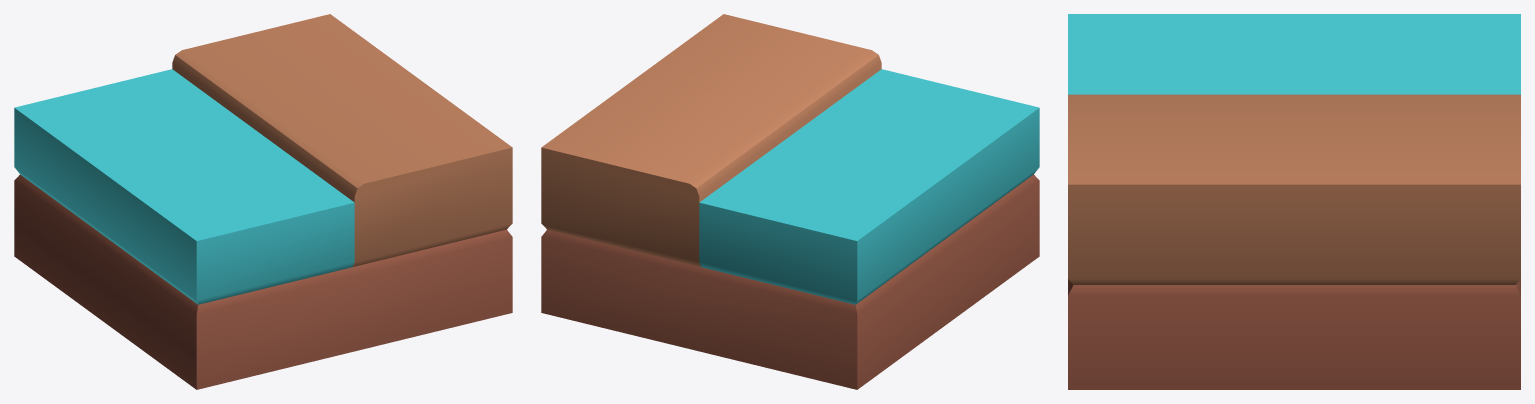
File: square_rock_waterStraight.glb
The picture shows the model from 3 angles, left to right: view 1: azimuth 30°, elevation 25°; view 2: azimuth 150°, elevation 25°; view 3: azimuth 270°, elevation 25°; orthographic projection. The views are drawn at different scales.
Visible parts, largest first — view 1: square_rock_waterStraight; view 2: square_rock_waterStraight; view 3: square_rock_waterStraight.
Part boxes in pixels (x1=…): square_rock_waterStraight: x1=14, y1=14, x2=512, y2=389; square_rock_waterStraight: x1=541, y1=14, x2=1039, y2=389; square_rock_waterStraight: x1=1068, y1=14, x2=1520, y2=389.
Bounding box in the file's own units: 2 × 1 × 2.
